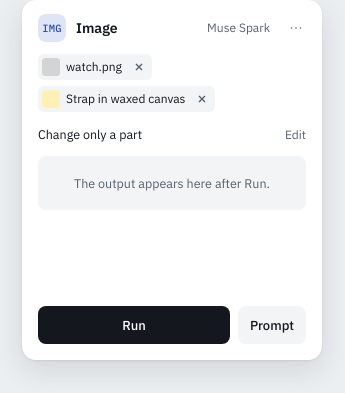
Test case: NodeCard › a 400 from Run is shown in plain words
The width and height of the screenshot is (345, 393).
Click the button "Run" at [134, 325], box [38,306,230,344]
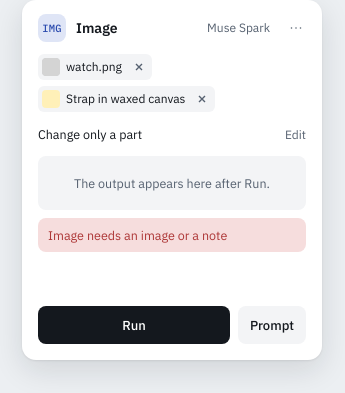
Check: the message reads "Image needs an image or a note", box [48,227,227,243]
